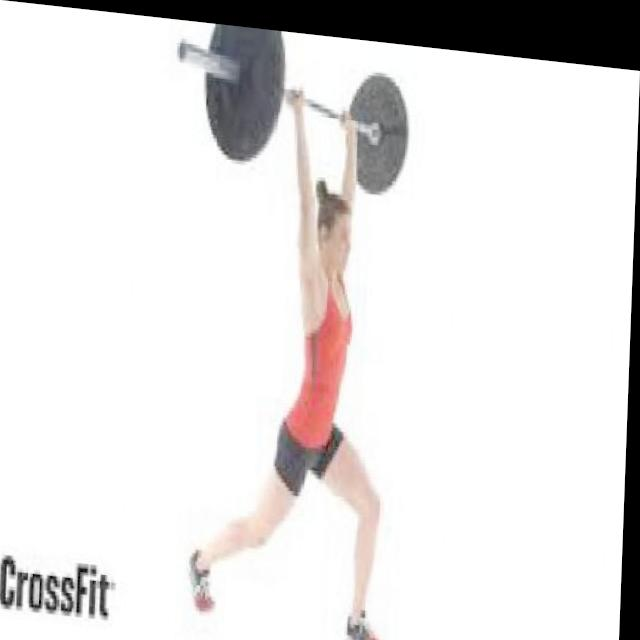barbell: (174, 34, 293, 166)
